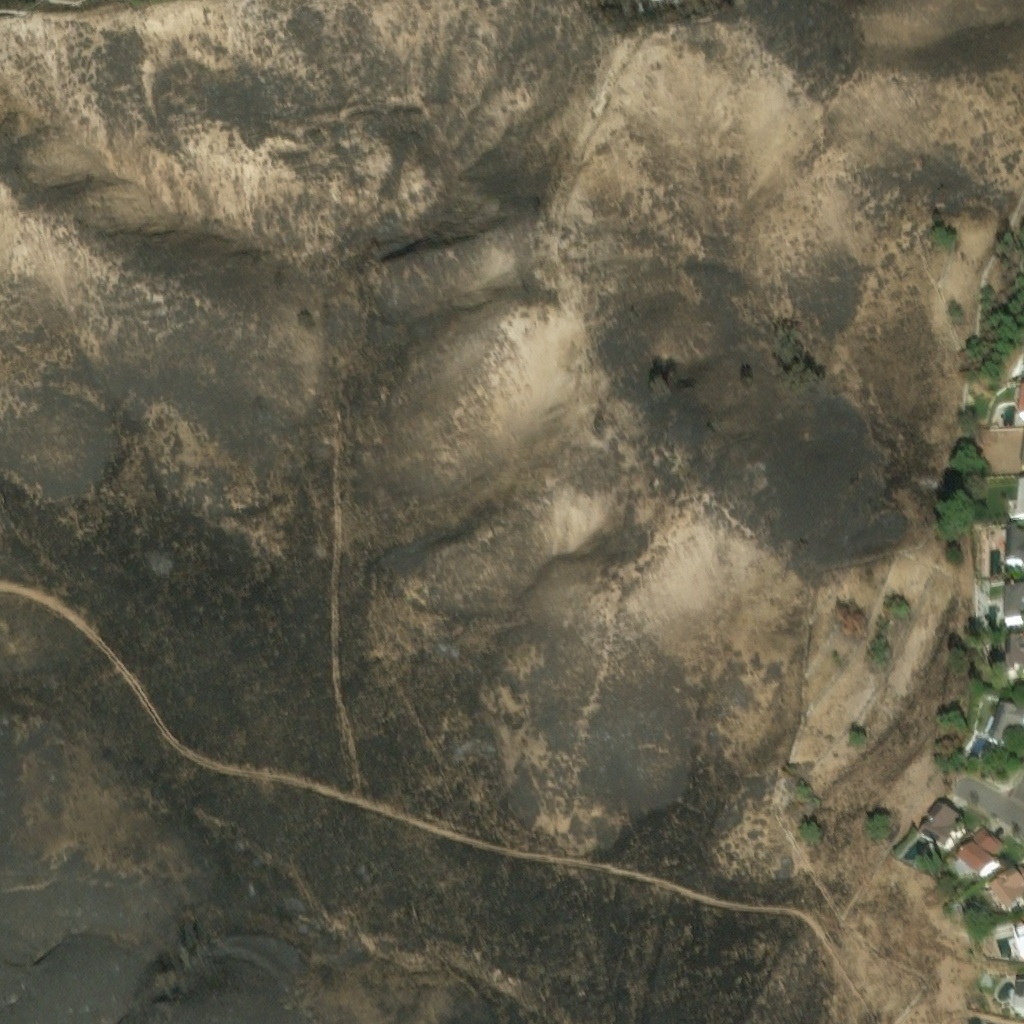0 no-damage: (917, 790, 965, 846), (987, 856, 1023, 915), (952, 832, 998, 877), (984, 690, 1023, 731), (969, 819, 1004, 851), (1001, 524, 1023, 565), (1002, 625, 1023, 666), (1002, 579, 1023, 614), (1007, 477, 1023, 516), (1011, 375, 1023, 412), (1011, 984, 1023, 1015), (1013, 929, 1023, 962)
